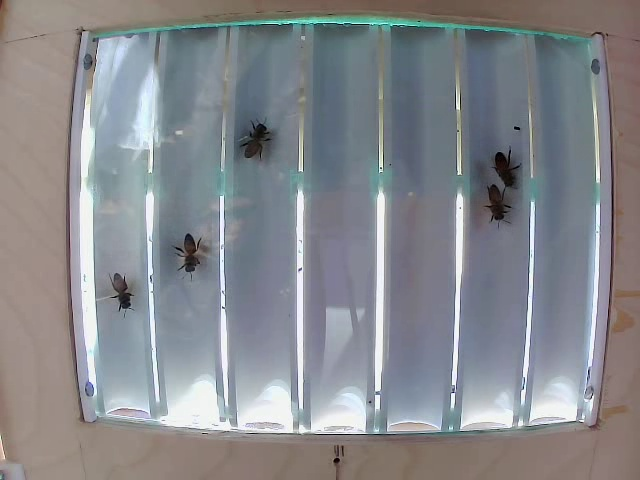bee: (105, 268, 164, 312), (489, 144, 527, 203), (243, 114, 283, 170), (476, 182, 518, 234), (170, 239, 214, 287)
